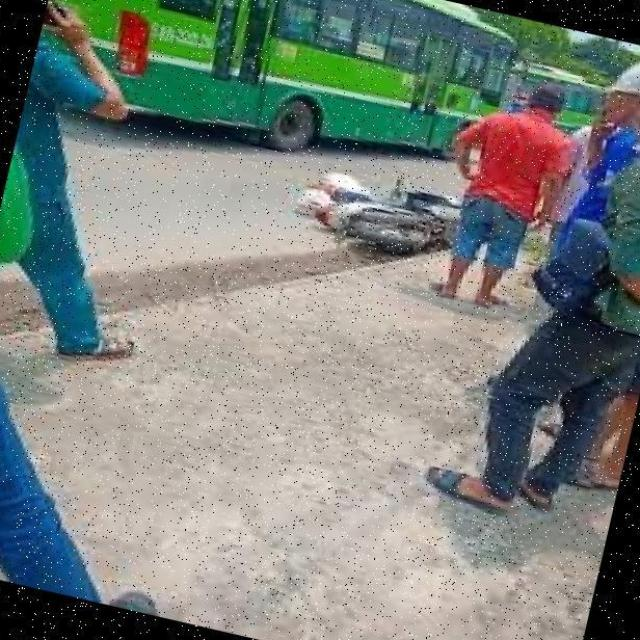accident: (266, 128, 502, 280)
